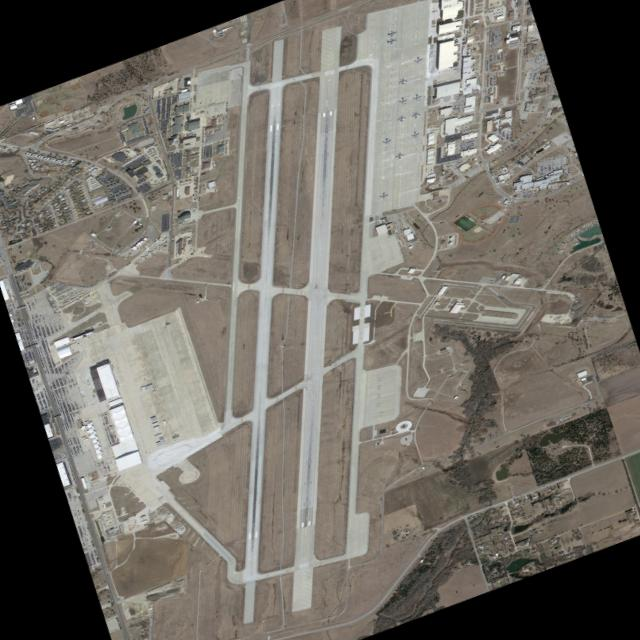plane: (155, 241, 170, 250), (140, 106, 153, 114), (137, 253, 150, 261), (379, 191, 389, 200), (412, 93, 422, 102), (410, 130, 420, 138), (398, 77, 408, 85), (387, 29, 397, 37), (152, 236, 163, 243), (145, 249, 156, 256), (395, 151, 404, 159), (382, 137, 391, 145), (397, 114, 406, 122), (411, 110, 420, 118), (398, 96, 407, 104), (413, 56, 422, 64), (387, 36, 396, 44), (160, 236, 169, 242), (401, 423, 406, 428), (117, 102, 122, 105), (143, 103, 148, 106), (112, 109, 116, 112), (139, 251, 143, 254), (136, 254, 140, 257), (128, 223, 132, 226), (116, 118, 120, 120), (136, 113, 140, 115), (153, 247, 157, 249), (140, 100, 144, 102), (132, 98, 136, 100), (124, 228, 128, 230), (118, 113, 121, 115), (155, 245, 158, 247), (126, 226, 129, 228), (144, 252, 147, 254), (165, 240, 167, 242), (123, 230, 125, 231)
